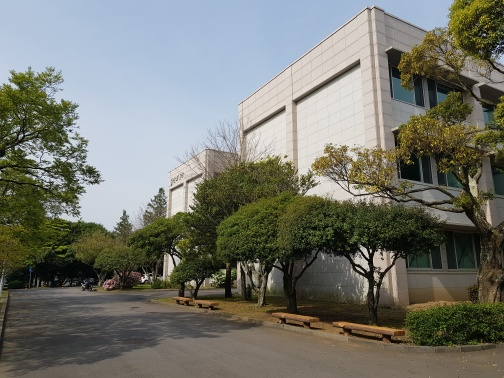College of Nursing: (233, 20, 488, 298), (158, 140, 208, 287)
